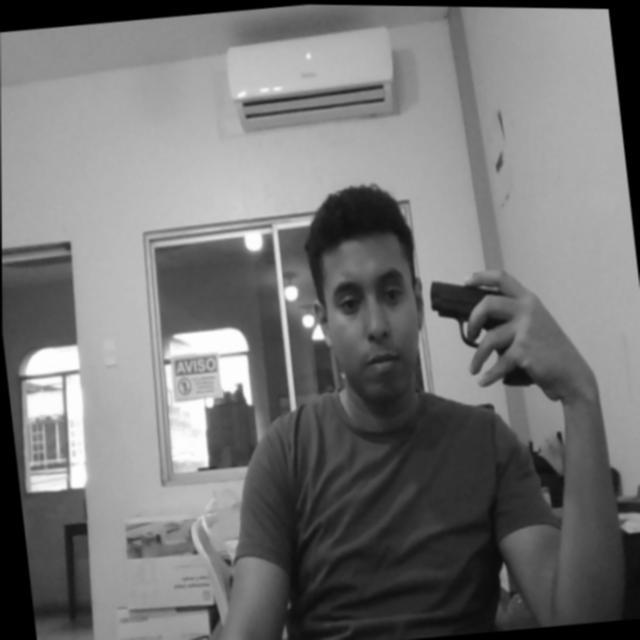weapon: (426, 268, 536, 394)
